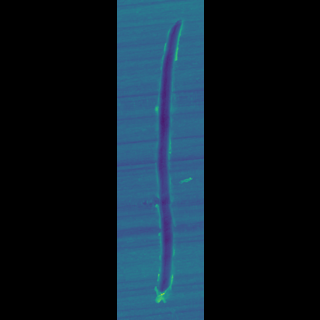Loch: (156, 16, 166, 306), (164, 175, 168, 188)
